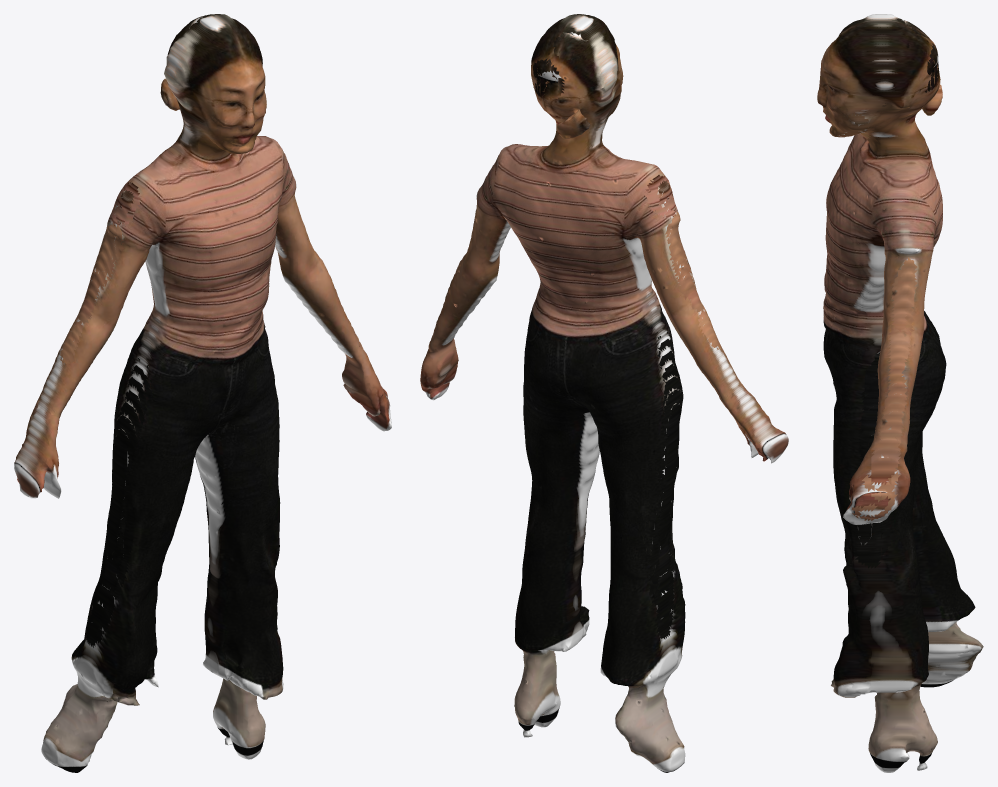
3 renders of one model, left to right at view 1: azimuth 30°, elevation 25°; view 2: azimuth 150°, elevation 25°; view 3: azimuth 270°, elevation 25°, orthographic. The views are drawn at different scales.
Visible parts, largest first — view 1: result_ztDsntyv18_256; view 2: result_ztDsntyv18_256; view 3: result_ztDsntyv18_256.
Part boxes in pixels (x1,y1,x2,y2): result_ztDsntyv18_256: (14,14,391,772); result_ztDsntyv18_256: (420,14,788,772); result_ztDsntyv18_256: (817,14,983,772).
Size of the model in its own units: 0.9761 by 1.91 by 0.3928.
Materials: 1 (1 with a texture image).
